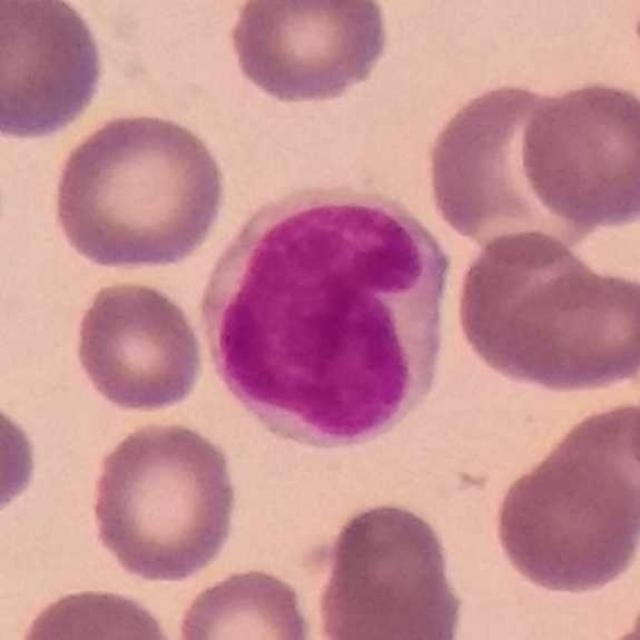Monocyte: (196, 177, 449, 457)
RBC: (449, 229, 640, 399), (421, 78, 601, 258), (47, 107, 230, 274), (487, 420, 639, 600), (84, 415, 242, 586), (310, 496, 470, 640), (69, 276, 208, 416), (514, 76, 639, 230), (224, 0, 394, 108), (0, 0, 110, 144), (535, 398, 639, 546), (172, 563, 321, 640), (11, 583, 180, 640), (0, 389, 42, 527)
